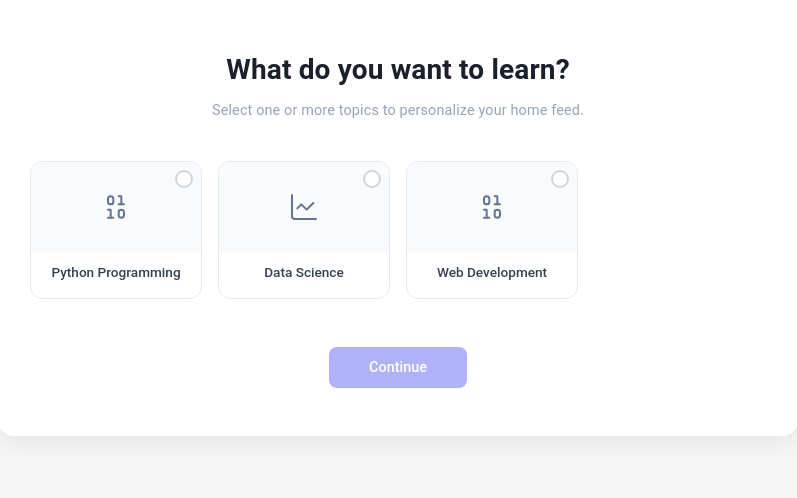
Scenario: InterestSelectionPage › error state › should display error message when saving interests fails
Expected: the heading "Python Programming" is shown, [51,264,181,282]
Note: Select an interest
Click the button "Python Programming" at {"x": 116, "y": 230}, box [30,161,202,299]
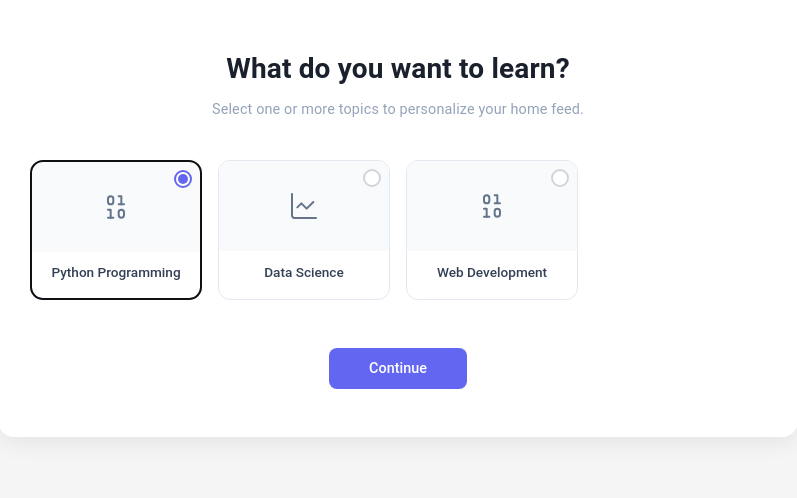
Note: Click continue
Click the button "Continue" at {"x": 398, "y": 369}, box [329,348,467,389]
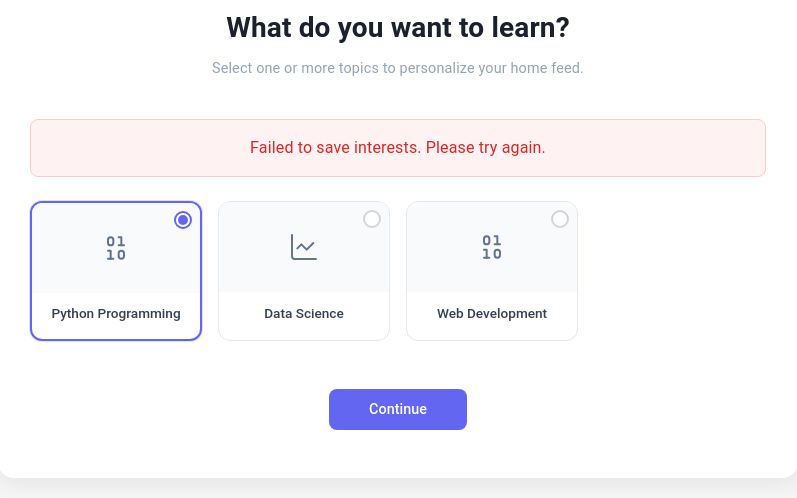
Now the message shows "Failed to save interests", box [250,138,546,157]
